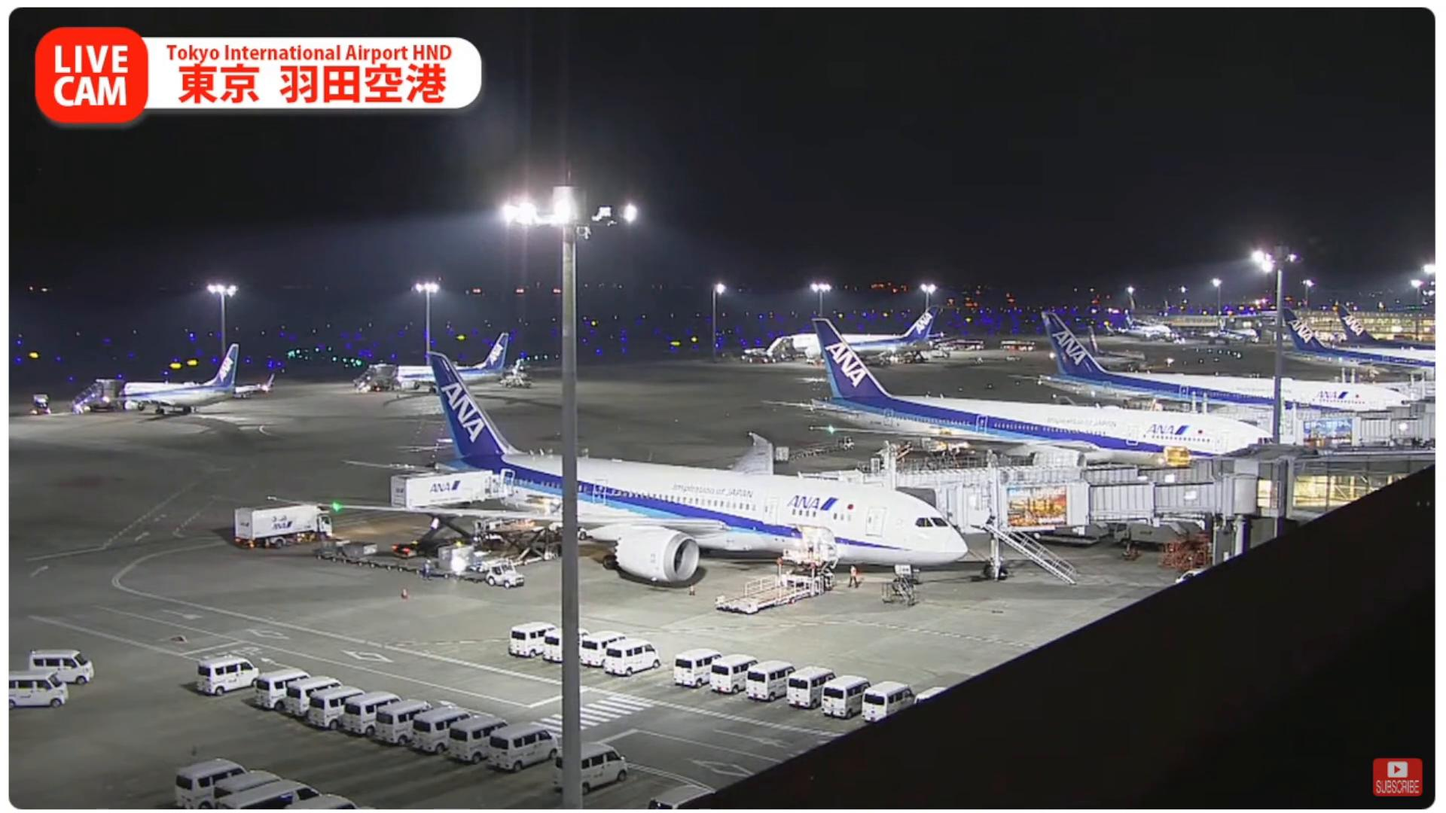Aerobridge: (895, 475, 1256, 534), (812, 456, 1224, 487)
Airplane: (269, 351, 970, 589)
Catering: (390, 470, 507, 559), (234, 499, 331, 548)
Dolly: (315, 539, 491, 586)
JCPL: (712, 560, 837, 614), (509, 529, 561, 566)
Tractor: (484, 564, 524, 588)
Window: (1290, 455, 1437, 521)
